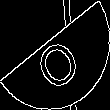O_NW: (26, 21, 84, 89)
